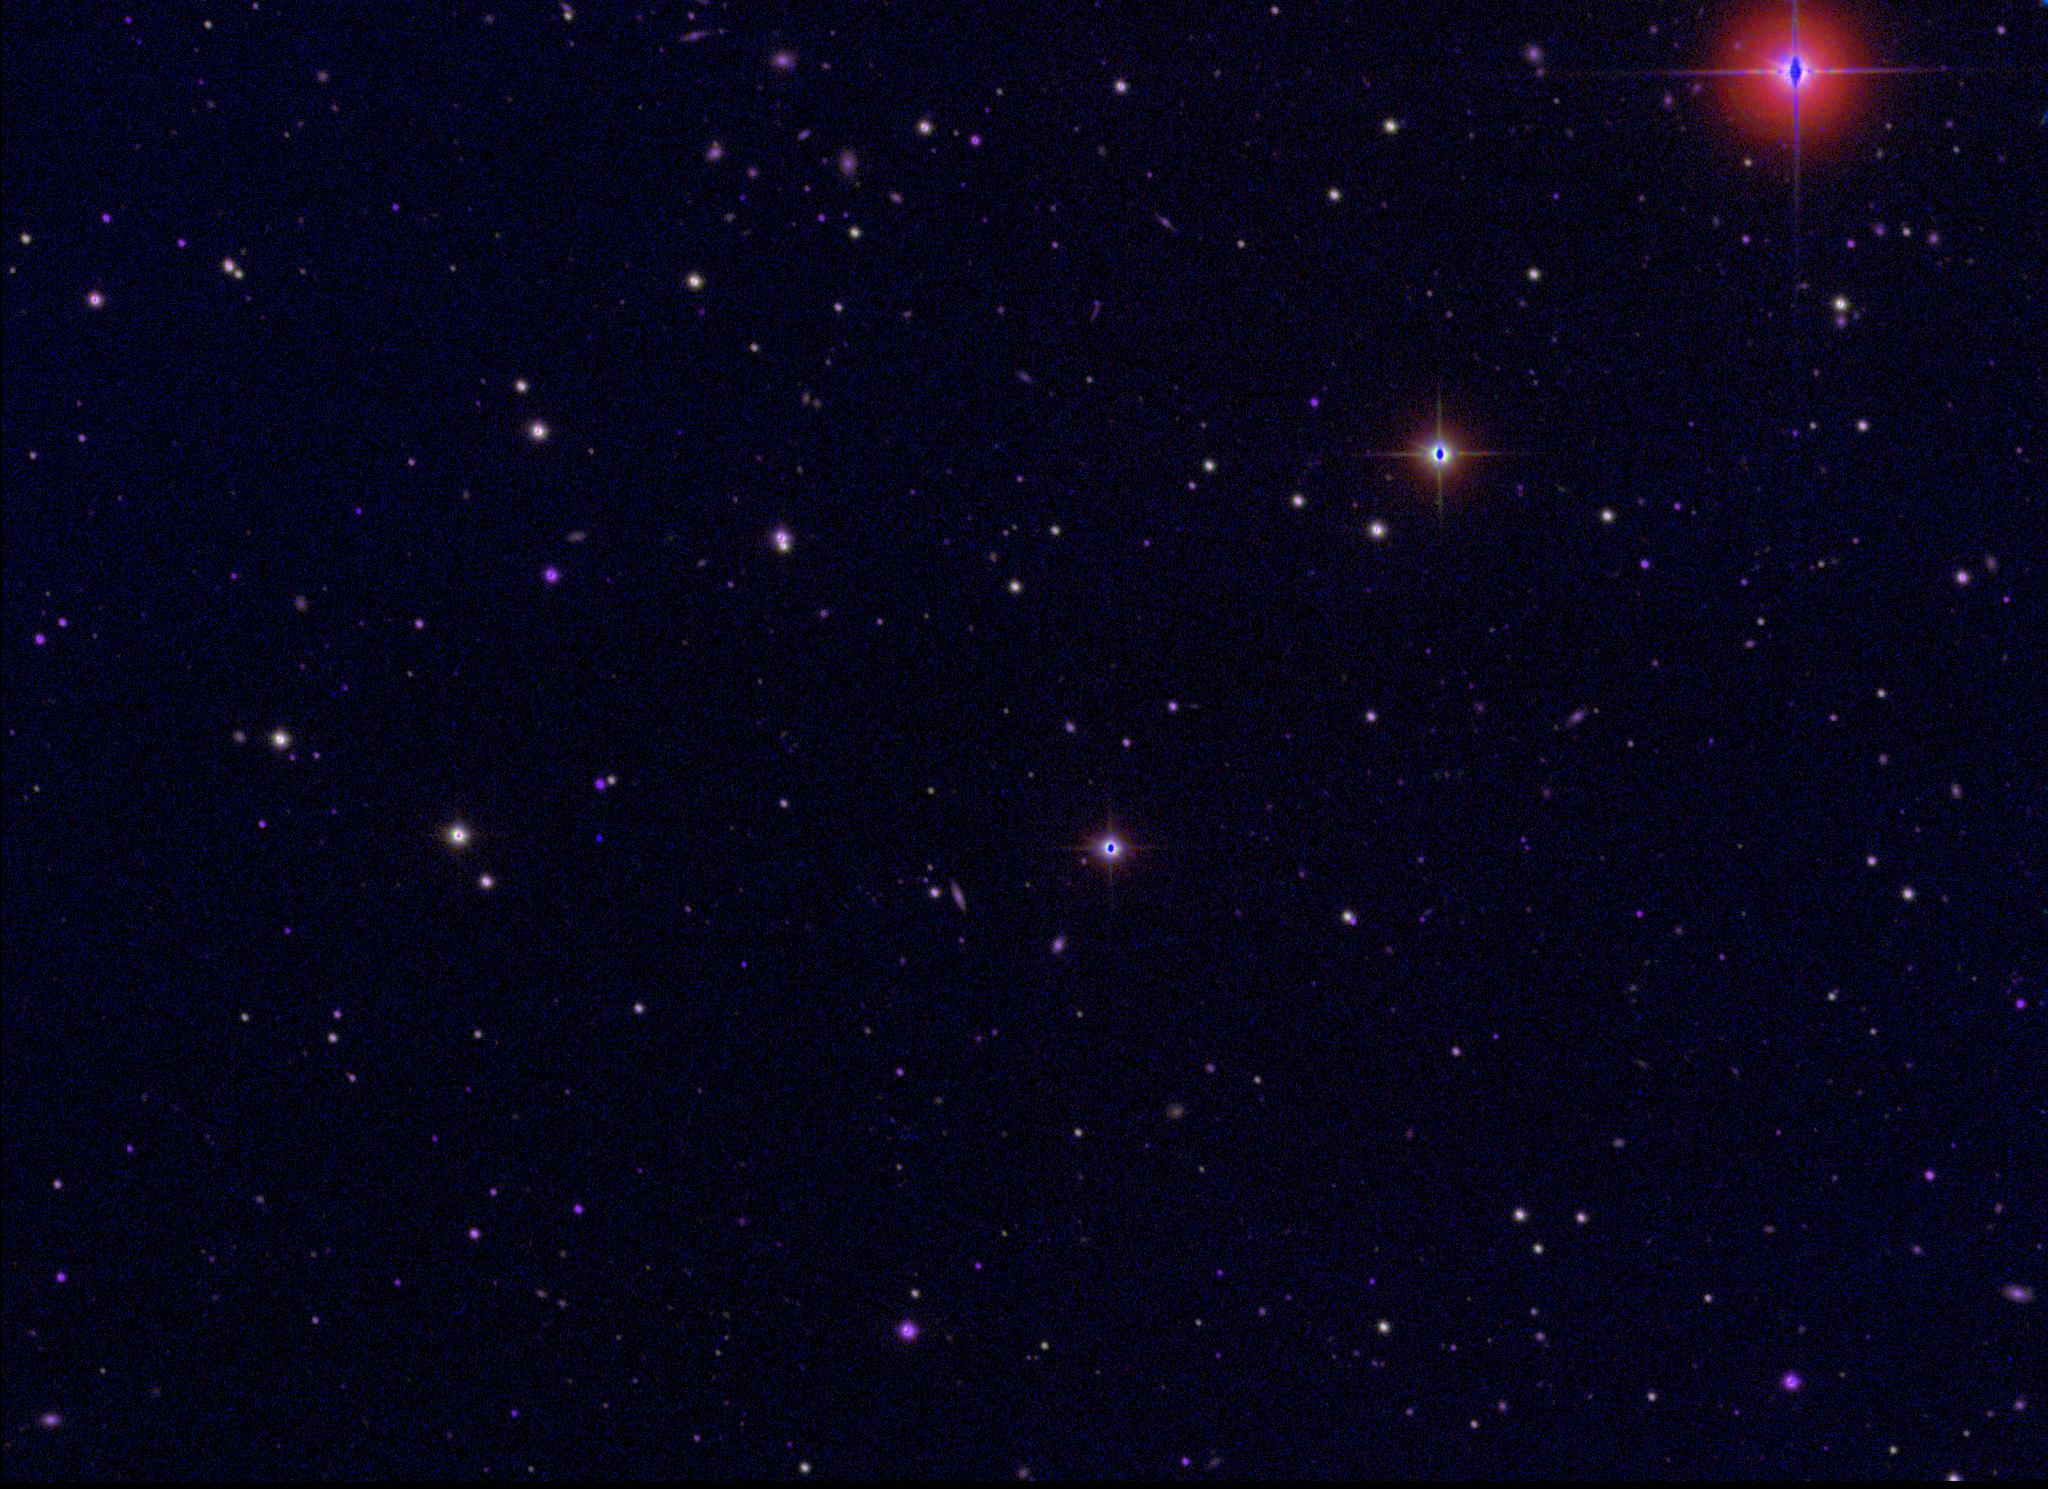L: (590, 827, 604, 842)
